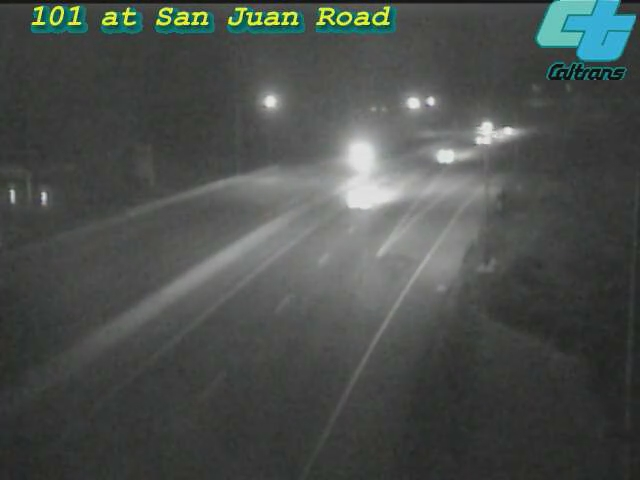vehicle: (316, 116, 396, 196), (329, 153, 409, 233), (457, 101, 507, 151), (487, 105, 537, 155), (458, 113, 508, 163), (421, 131, 471, 181)
